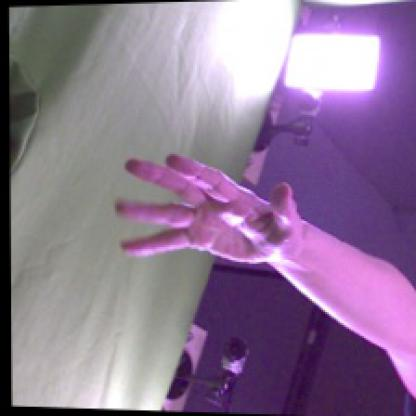Hand: (114, 154, 302, 266)
